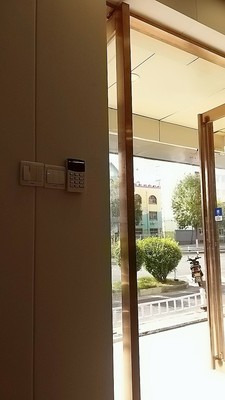switch: (24, 165, 41, 182), (49, 172, 66, 184)
